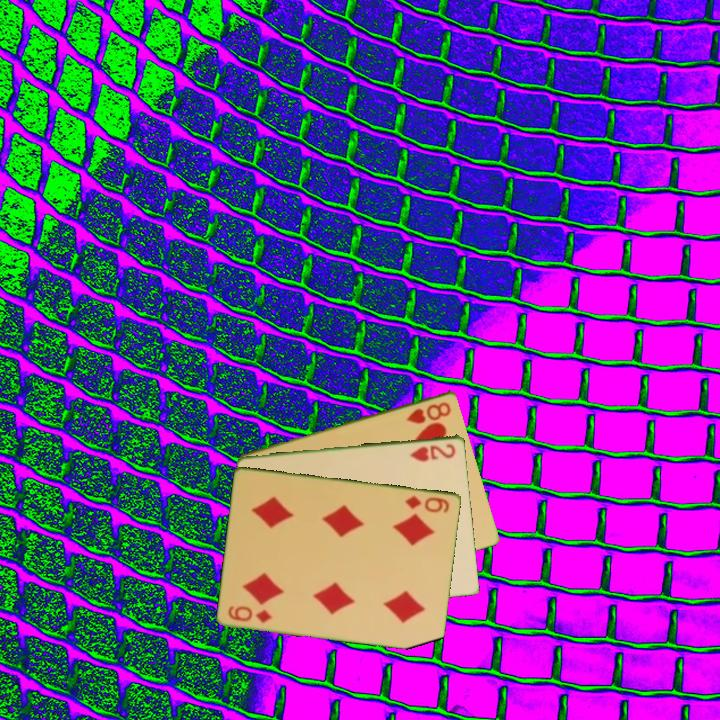2h: (406, 440, 458, 464)
6d: (402, 491, 453, 515), (225, 602, 275, 625)
8h: (403, 398, 454, 426)
